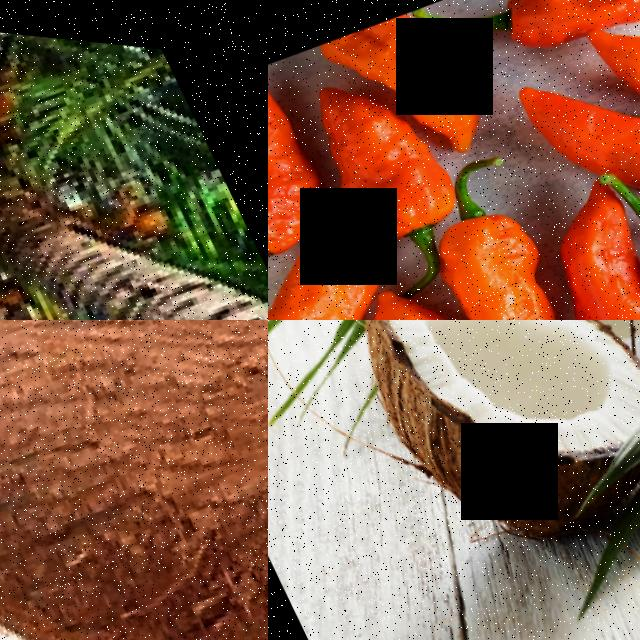chilli: (293, 53, 468, 260), (412, 177, 595, 320), (518, 159, 640, 320), (268, 63, 344, 277), (465, 0, 640, 85), (342, 260, 509, 320)
coconut: (0, 320, 268, 640), (329, 320, 640, 573)
